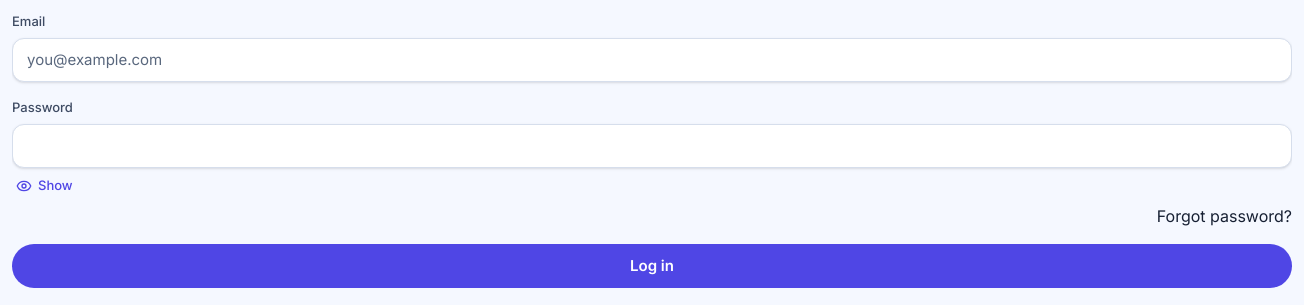
Test case: LoginForm › issues a single login POST under double submit
Expected: the button "Log in" is shown, [12,244,1292,288]
In the field labelled "Email": (652, 60) [12,38,1292,82], type "ada@example.com"
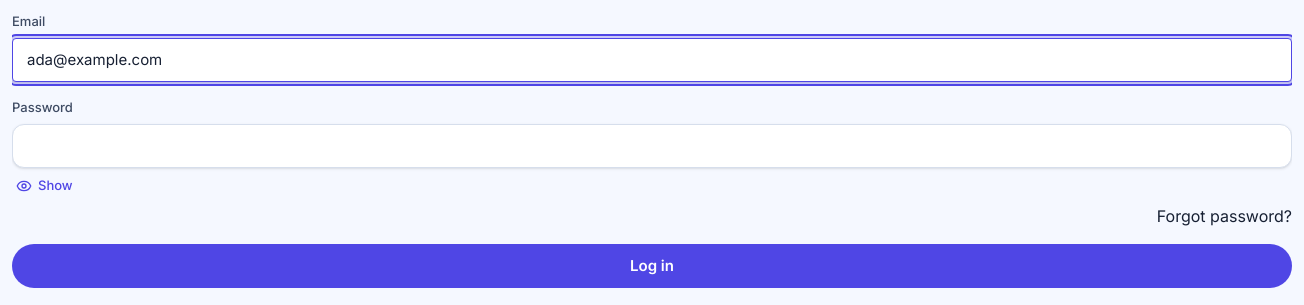
In the password field labelled "Password": (652, 146) [12,124,1292,168], type "correct-password-1"
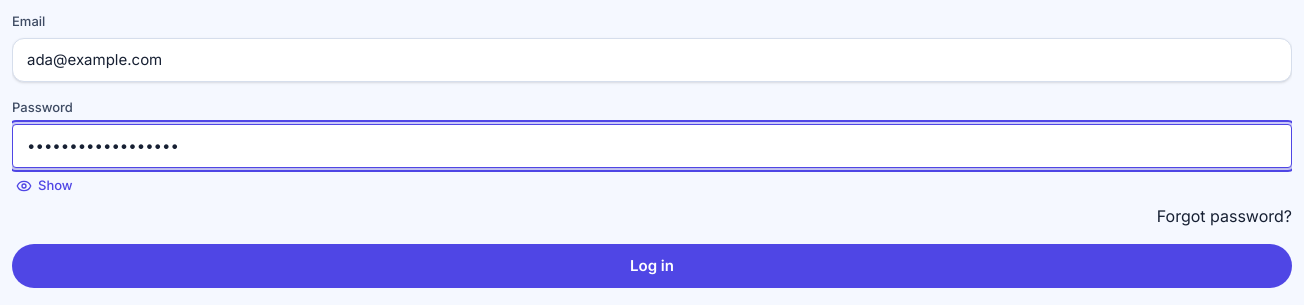
Click the button "Log in": (652, 266) [12,244,1292,288]
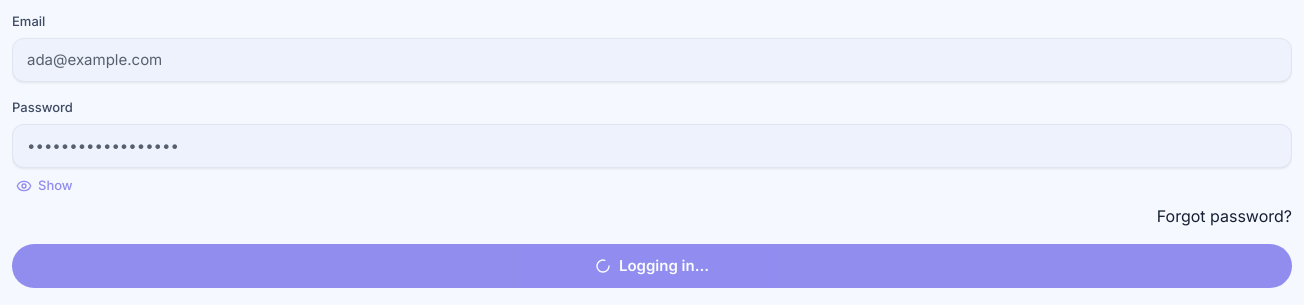
Now the button "Logging in…" is disabled
Click the button "Logging in…": (652, 266) [12,244,1292,288]
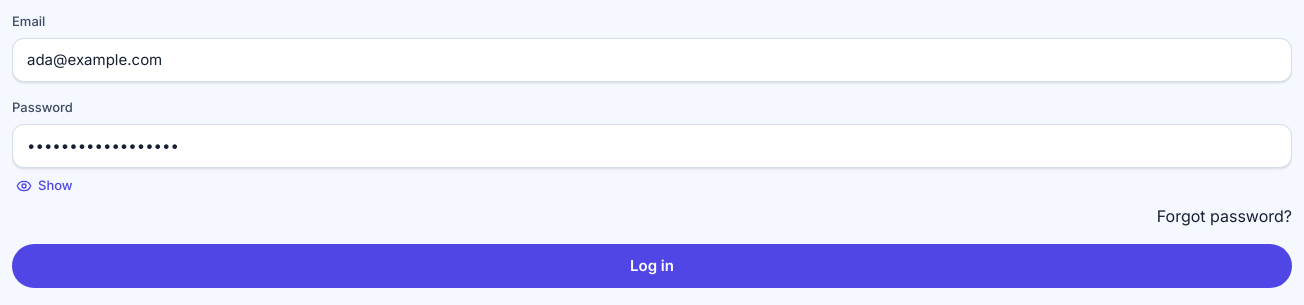
Now the button "Log in" is enabled, box [12,244,1292,288]
